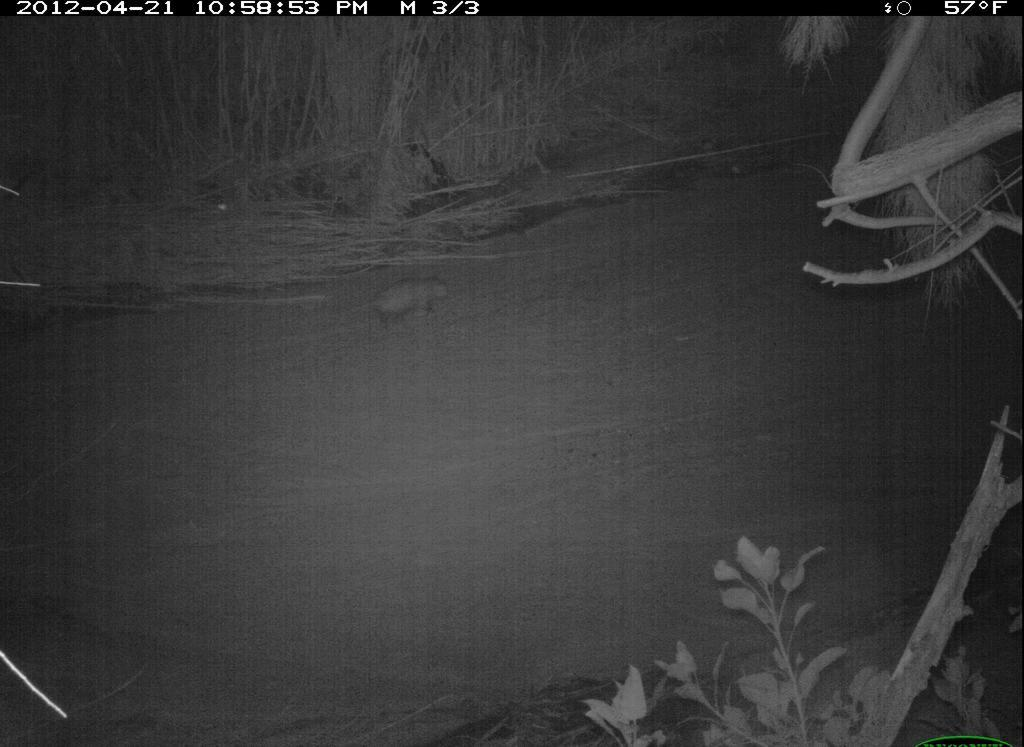opossum: (340, 271, 466, 336)
